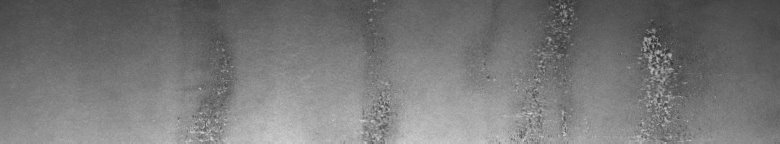hc: (483, 4, 693, 136)
